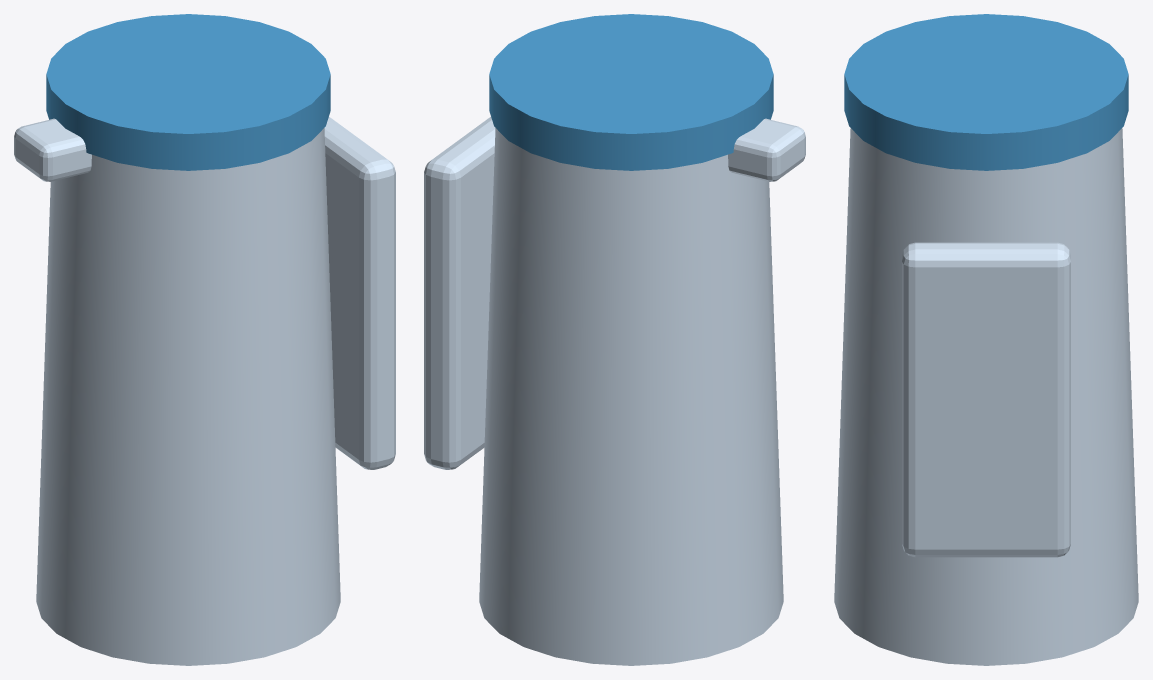
Rendered from Water_Jug.glb.
3 renders of one model, left to right at view 1: azimuth 30°, elevation 25°; view 2: azimuth 150°, elevation 25°; view 3: azimuth 270°, elevation 25°, orthographic.
Parts seen in each view (by area): view 1: Jug, Lid.001, Handle.001, Spout; view 2: Jug, Lid.001, Handle.001, Spout; view 3: Jug, Handle.001, Lid.001.
Part boxes in pixels (x1,y1,x2,y2): Jug: (36, 128, 340, 665); Lid.001: (46, 14, 330, 170); Handle.001: (324, 117, 395, 469); Spout: (14, 118, 91, 181); Jug: (479, 128, 783, 665); Lid.001: (489, 14, 773, 170); Handle.001: (424, 117, 495, 469); Spout: (728, 118, 805, 181); Jug: (834, 128, 1138, 665); Handle.001: (902, 242, 1070, 557); Lid.001: (844, 14, 1128, 170).
Size of the model in its own units: 0.113 by 0.172 by 0.09.
